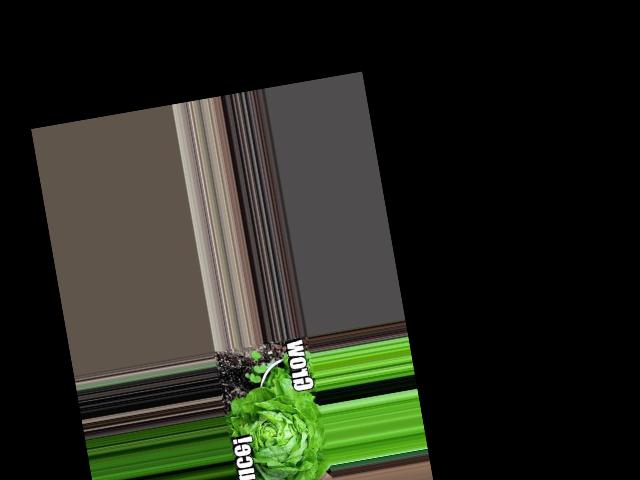lettuce: (227, 377, 330, 480)
